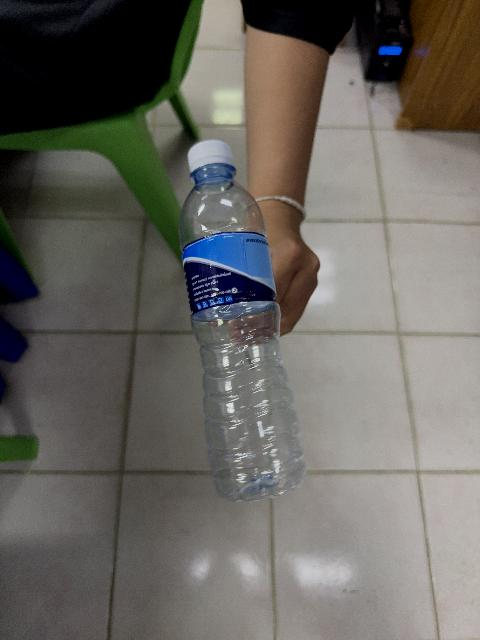bottle: (179, 141, 304, 500)
